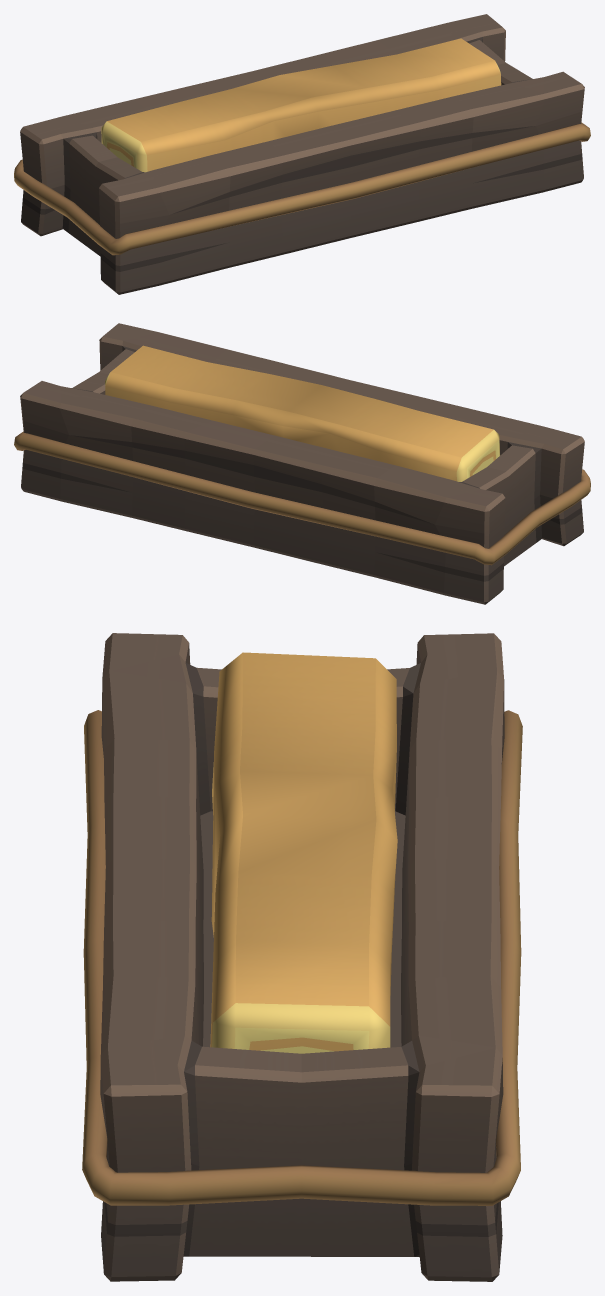
File: elf_asp_mold.fbx
3 renders of one model, top to bottom at view 1: azimuth 30°, elevation 25°; view 2: azimuth 150°, elevation 25°; view 3: azimuth 270°, elevation 25°, orthographic. The views are drawn at different scales.
Parts seen in each view (by area): view 1: elf_asp_mold; view 2: elf_asp_mold; view 3: elf_asp_mold.
Boxes of the visible parts, <box> form: elf_asp_mold: <box>14,14,590,294</box>; elf_asp_mold: <box>14,323,590,604</box>; elf_asp_mold: <box>82,633,522,1281</box>.
Bounding box in the file's own units: 417 × 98.16 × 166.
